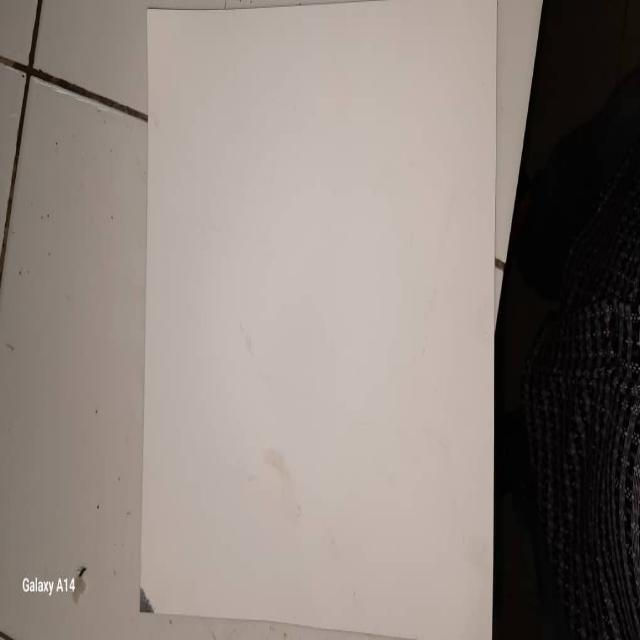TLC Plate: (140, 5, 497, 603)
